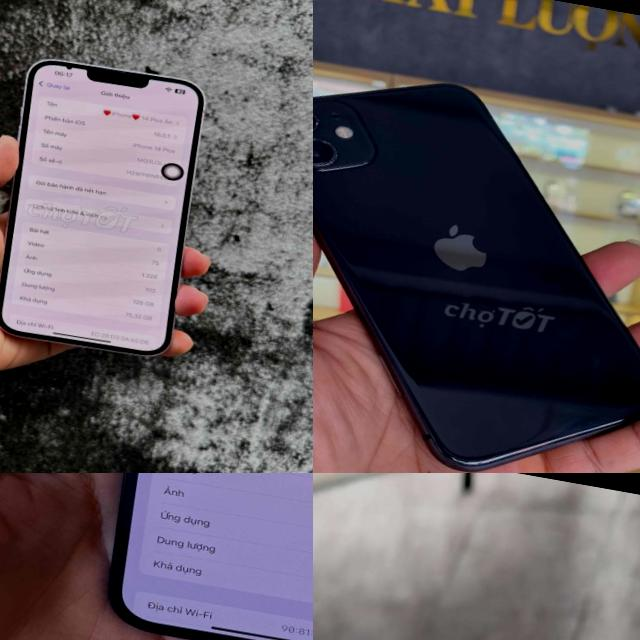gen_11: (313, 51, 640, 473)
gen_12_13: (80, 473, 313, 640)
gen_14: (0, 44, 233, 374)
